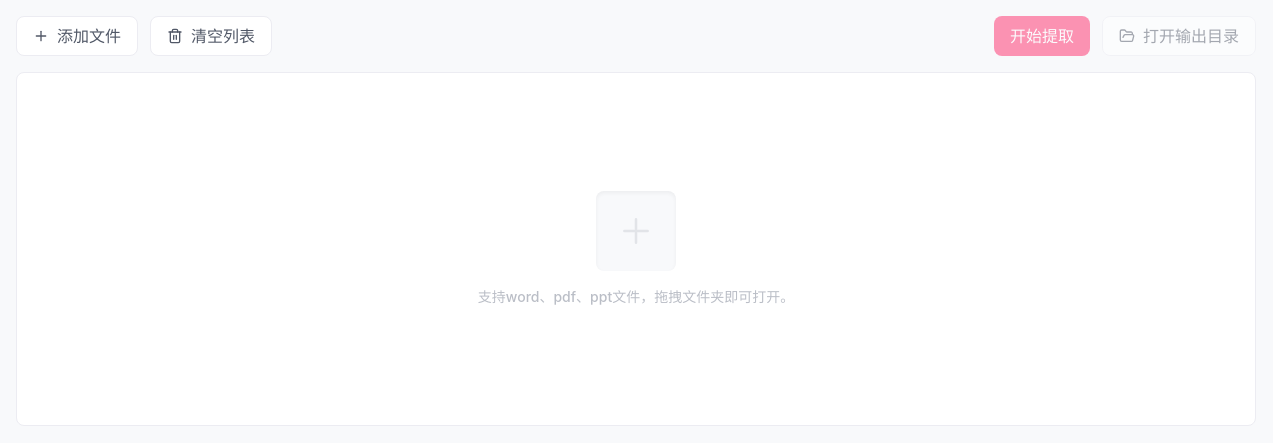
Test: ExtractImagePage › surfaces a failed extraction in the document list row
Click the button "添加文件": (77, 36) [16, 16, 138, 56]
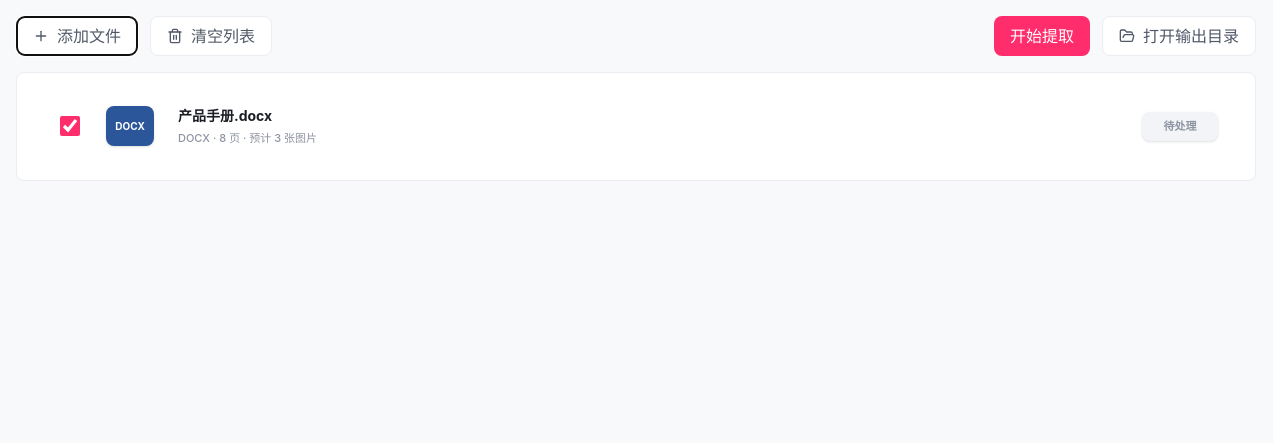
Click the button "开始提取": (1042, 36) [994, 16, 1090, 56]
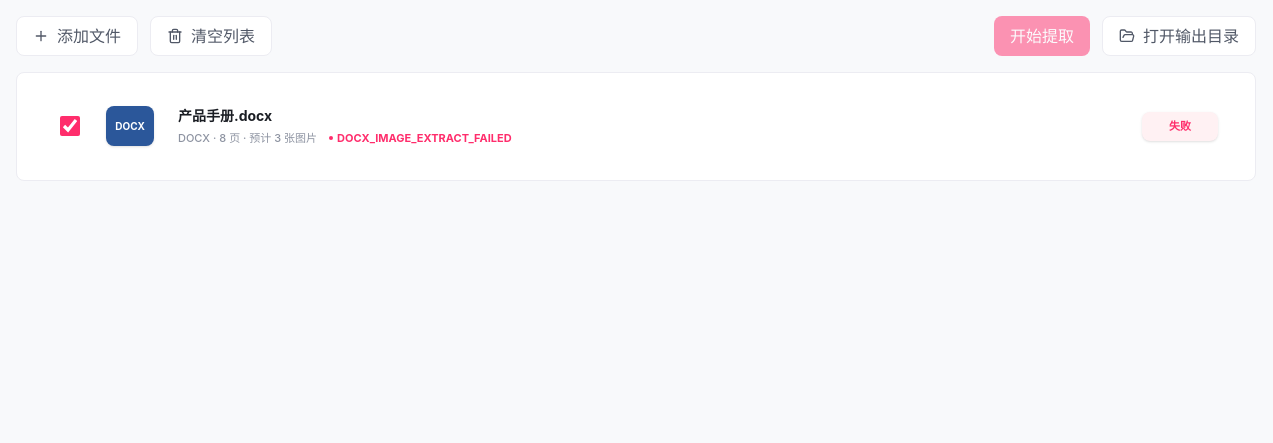
Check: the text "失败" is shown, box [1142, 112, 1218, 140]
